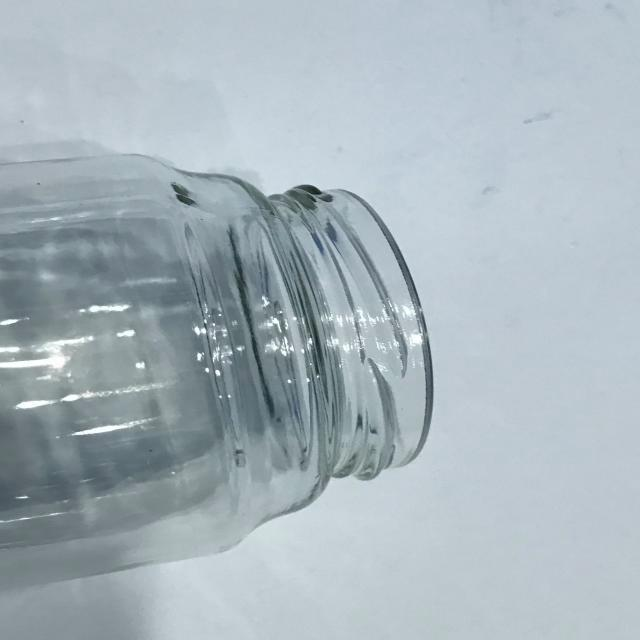glass: (0, 133, 444, 600)
